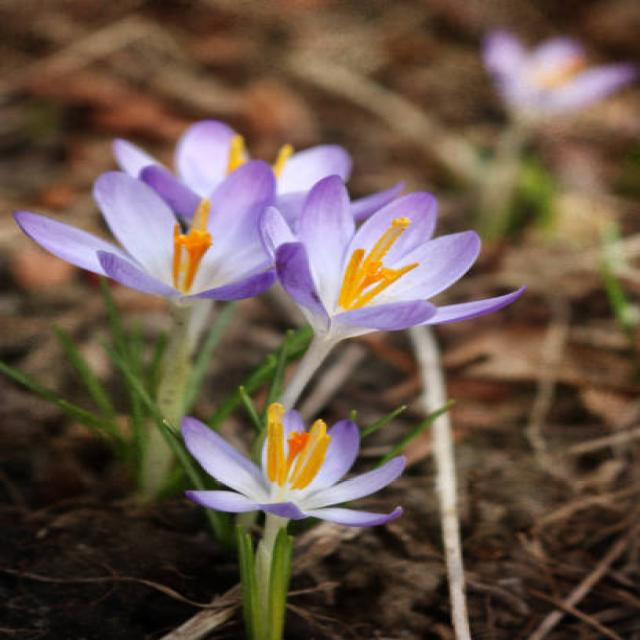saffron open: (15, 161, 276, 424), (262, 175, 521, 409), (182, 402, 405, 560), (486, 30, 636, 119)
